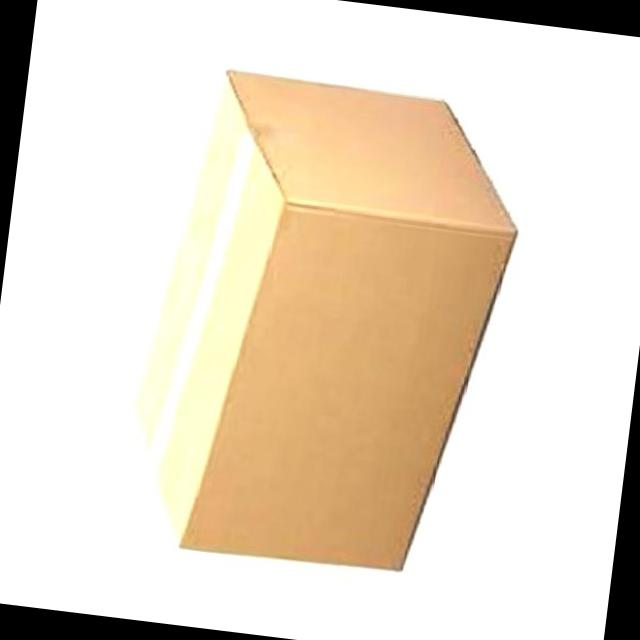box: (135, 69, 519, 573)
